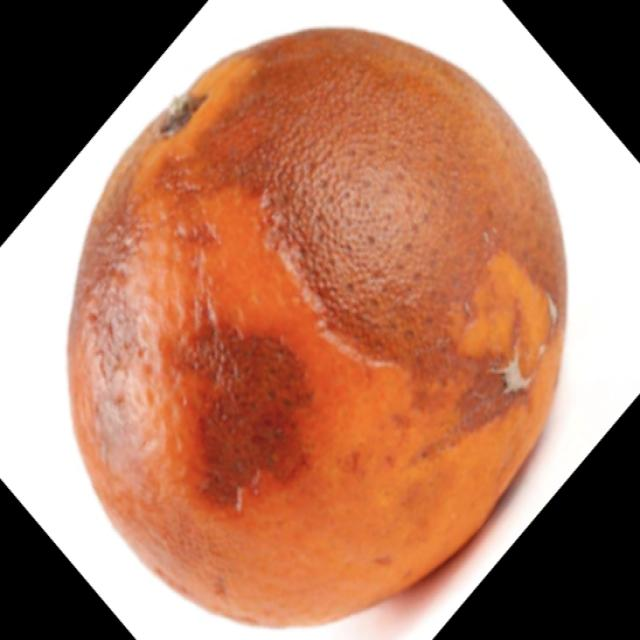sedikit_busuk: (64, 30, 561, 620)
